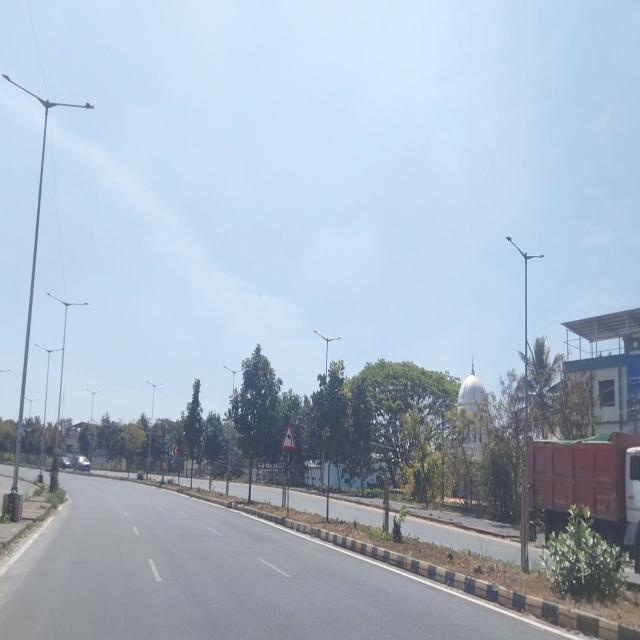bien_nguy_hiem: (281, 423, 296, 450)
